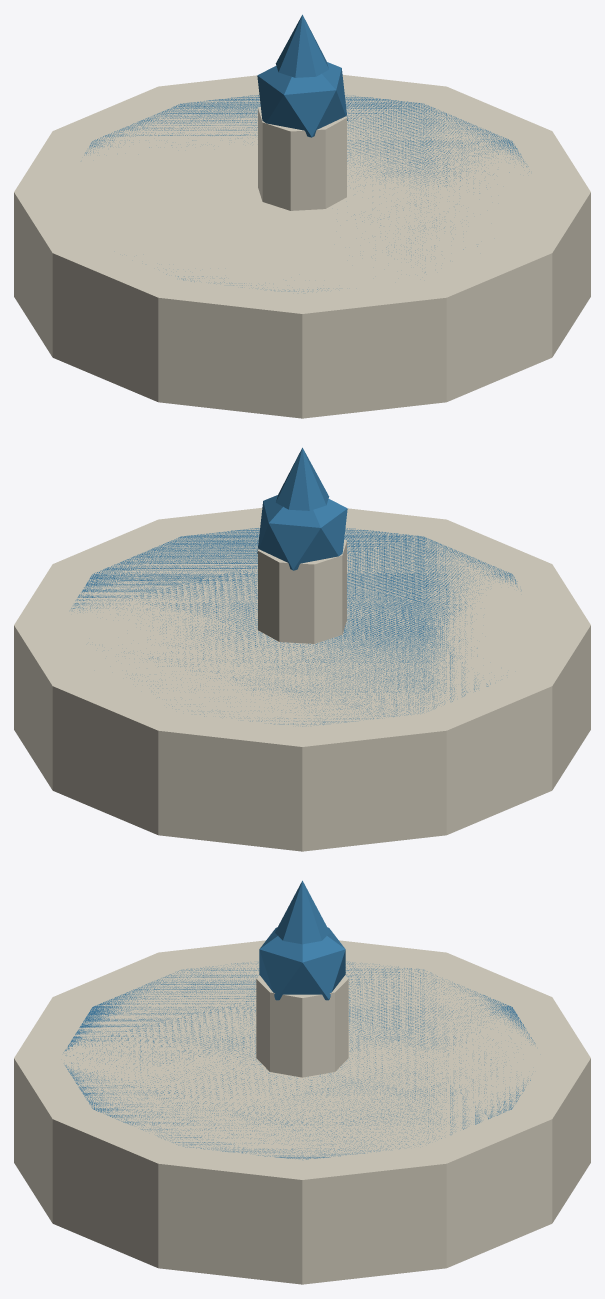
The model's file is prop.fountain-bowl.glb.
3 views of the same model, one above another, from view 1: azimuth 30°, elevation 25°; view 2: azimuth 150°, elevation 25°; view 3: azimuth 270°, elevation 25° (orthographic).
Visible parts, largest first — view 1: prop.fountain-bowl; view 2: prop.fountain-bowl; view 3: prop.fountain-bowl.
Boxes of the visible parts, x1,y1,x2,y2 form: prop.fountain-bowl: (14, 14, 590, 418); prop.fountain-bowl: (14, 447, 590, 851); prop.fountain-bowl: (14, 880, 590, 1284).
Bounding box in the file's own units: 2.5 × 1.35 × 2.5.
